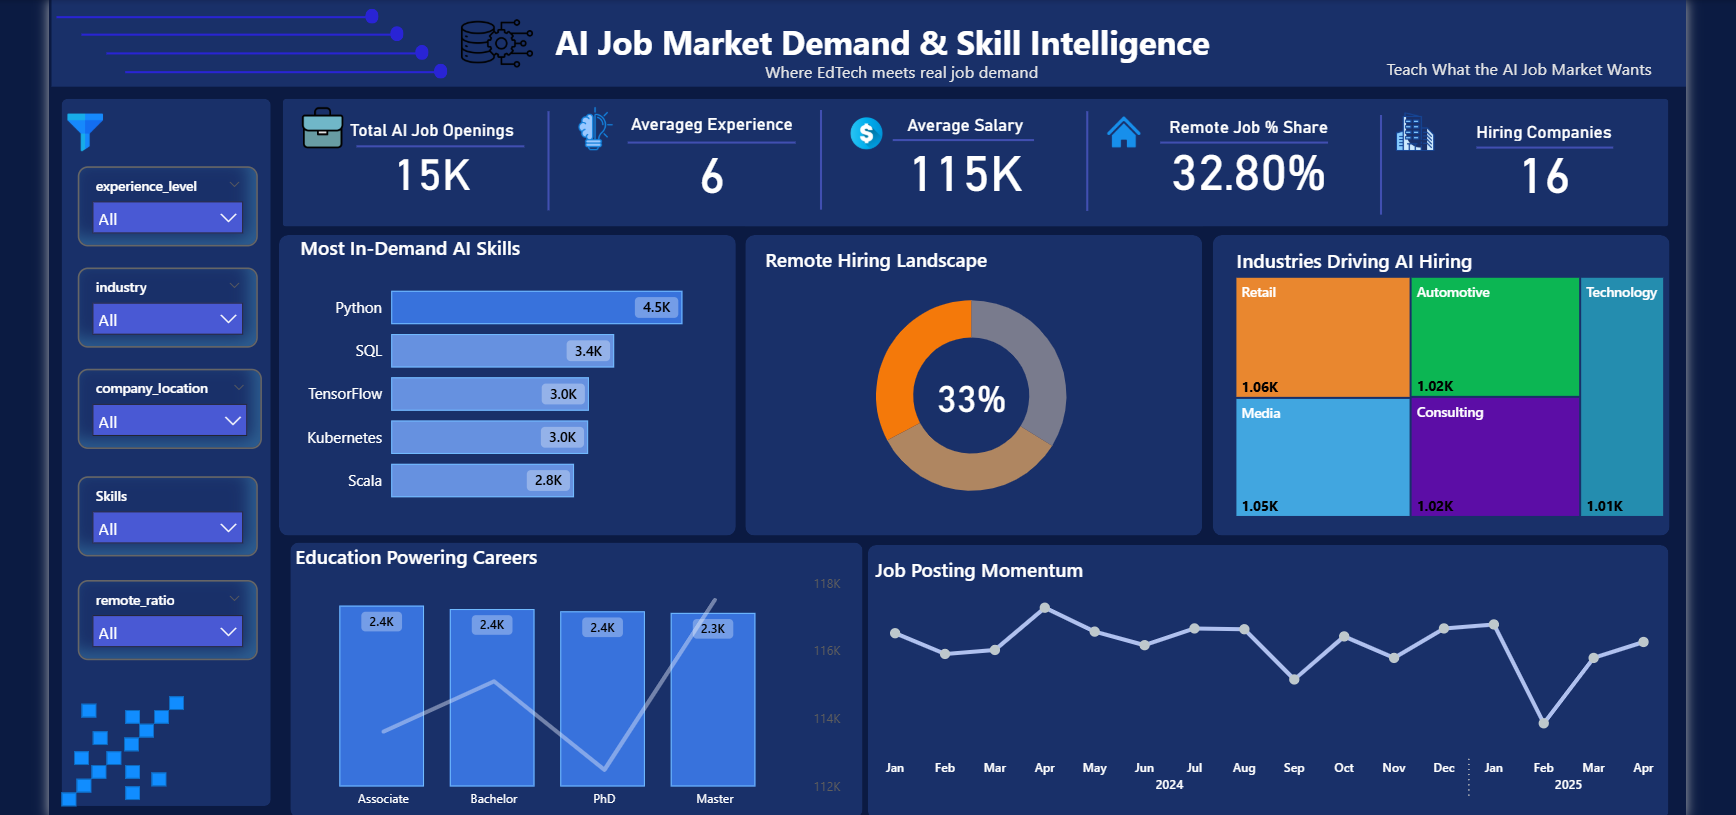

The page's visual inventory and layout, read from the dashboard file:
{"tool":"powerbi","page":{"name":"Analysis","canvas":[1600,800],"ordinal":0},"visuals":[{"type":"shape","box":[2.7,0,1597.9,84.7],"z":0},{"type":"shape","box":[7.3,7.3,302.3,18.9],"z":0,"group":"g7"},{"type":"shape","box":[32,24.7,302.3,18.9],"z":0,"group":"g5"},{"type":"shape","box":[56.7,42.2,302.3,18.9],"z":0,"group":"g6"},{"type":"shape","box":[74.1,61,302.3,18.9],"z":0,"group":"g4"},{"type":"image","box":[241,94.2,53.8,61],"z":0,"group":"g1"},{"type":"shape","box":[12.1,774.7,14.8,13.4],"z":0,"group":"g3"},{"type":"shape","box":[309.4,8.8,13.1,14.5],"z":1000,"group":"g7"},{"type":"shape","box":[334.1,26.2,13.1,14.5],"z":1000,"group":"g5"},{"type":"shape","box":[358.8,43.7,13.1,14.5],"z":1000,"group":"g6"},{"type":"shape","box":[376.2,62.5,13.1,14.5],"z":1000,"group":"g4"},{"type":"image","box":[508.3,96.5,52.5,58.6],"z":1000,"group":"g1"},{"type":"shape","box":[12.1,96.8,204.4,691.3],"z":1000},{"type":"shape","box":[26.9,761.3,14.8,13.4],"z":1000,"group":"g3"},{"type":"textbox","box":[489.6,14.8,667.1,55.1],"z":2000},{"type":"image","box":[778.5,109,42.2,43.6],"z":2000,"group":"g1"},{"type":"shape","box":[41.7,747.8,14.8,13.4],"z":2000,"group":"g3"},{"type":"image","box":[1021.8,98.9,58.7,59.9],"z":3000,"group":"g1"},{"type":"shape","box":[224.6,229.7,446.6,293.9],"z":3000},{"type":"shape","box":[56.5,734.4,14.8,13.4],"z":3000,"group":"g3"},{"type":"card","title":"Total AI Job Openings","fields":{"Values":["Base Measure.Total Job Postings"]},"box":[280.3,117.2,189,84.3],"z":4000,"group":"g1"},{"type":"shape","box":[235.5,530.5,559.6,268.9],"z":4000},{"type":"shape","box":[72.6,720.9,14.8,13.4],"z":4000,"group":"g3"},{"type":"card","title":"Average Salary","fields":{"Values":["Base Measure.Avg Salary"]},"box":[815.1,112.8,161.3,88.7],"z":5000,"group":"g1"},{"type":"shape","box":[800.3,532.6,782.8,267.7],"z":5000},{"type":"shape","box":[87.4,707.5,14.8,13.4],"z":5000,"group":"g3"},{"type":"textbox","box":[1274.5,51.1,325.5,33.6],"z":6000},{"type":"card","title":"Remote Job % Share","fields":{"Values":["Base Measure.Remote Job %"]},"box":[1086.1,114.3,173,84.3],"z":6000,"group":"g1"},{"type":"shape","box":[117,680.6,14.8,13.4],"z":6000,"group":"g3"},{"type":"card","title":"Hiring Companies","fields":{"Values":["Base Measure.Hiring Companies"]},"box":[1384.9,118,154.1,81.4],"z":7000,"group":"g1"},{"type":"shape","box":[680.1,229.7,446.6,293.9],"z":7000},{"type":"shape","box":[102.2,694,14.8,13.4],"z":7000,"group":"g3"},{"type":"textbox","box":[671.2,53.8,325.5,33.6],"z":8000},{"type":"shape","box":[460.8,109,55.2,97.1],"z":8000,"group":"g1"},{"type":"shape","box":[74,768,14.8,13.4],"z":8000,"group":"g3"},{"type":"card","title":"Averageg Experience ","fields":{"Values":["Base Measure.Avg Experience"]},"box":[561.3,111.4,174.4,95.9],"z":9000,"group":"g1"},{"type":"shape","box":[1137,229.7,446.6,293.9],"z":9000},{"type":"shape","box":[99.5,754.6,14.8,13.4],"z":9000,"group":"g3"},{"type":"shape","box":[228.6,96.8,1354.4,125.1],"z":10000},{"type":"shape","box":[726.8,107.6,55.2,97.4],"z":10000,"group":"g1"},{"type":"shape","box":[24.2,734.4,14.8,13.4],"z":10000,"group":"g3"},{"type":"image","box":[376.6,0,123.7,84.7],"z":11000},{"type":"shape","box":[988.1,108.4,55.2,97.4],"z":11000,"group":"g1"},{"type":"shape","box":[43,714.2,14.8,13.4],"z":11000,"group":"g3"},{"type":"shape","box":[300.9,123.5,164.2,39.2],"z":12000},{"type":"shape","box":[74,747.8,14.8,13.4],"z":12000,"group":"g3"},{"type":"image","box":[11.6,101.7,46.5,56.7],"z":13000},{"type":"shape","box":[1274.1,113.1,55.2,97.4],"z":13000,"group":"g1"},{"type":"donutChart","title":"Remote Hiring Landscape","fields":{"Category":["AI_Job.remote_ratio"],"Y":["Base Measure.Total Job Postings"]},"box":[694.8,241.3,412.8,267.4],"z":13003,"group":"g2"},{"type":"shape","box":[32.3,687.3,14.8,13.4],"z":14000},{"type":"shape","box":[74,694,14.8,13.4],"z":15000},{"type":"group","id":"g1","title":"Group 3","box":[241,94.2,1298,116.3],"z":16000},{"type":"clusteredBarChart","title":"Most In-Demand AI Skills","fields":{"Category":["AI_Job.Skills"],"Y":["Base Measure.Total Job Postings"]},"box":[240.1,229.8,408.2,279.6],"z":17000},{"type":"card","title":"Remote Job % Share","fields":{"Values":["Base Measure.Remote Job %"]},"box":[858.1,360.5,86.1,53.8],"z":17003,"group":"g2"},{"type":"treemap","title":"Industries Driving AI Hiring","fields":{"Group":["AI_Job.industry"],"Values":["Base Measure.Total Job Postings"]},"box":[1156.1,241.9,427.1,267.6],"z":18000},{"type":"lineChart","title":"Job Posting Momentum","fields":{"Category":["Calender.Year","Calender.Month"],"Y":["Base Measure.Total Job Postings"]},"box":[802.3,543.6,780.5,245.6],"z":19000},{"type":"lineClusteredColumnComboChart","title":"Education Powering Careers","fields":{"Y":["Base Measure.Total Job Postings"],"Y2":["Base Measure.Avg Salary"],"Category":["AI_Job.Education"]},"box":[235.5,532,543.6,267.4],"z":20000},{"type":"group","id":"g2","title":"Group 4","box":[694.8,241.3,412.8,267.4],"z":21000},{"type":"slicer","fields":{"Values":["AI_Job.experience_level"]},"box":[27.6,162.8,175.9,78.5],"z":22000},{"type":"slicer","fields":{"Values":["AI_Job.industry"]},"box":[27.6,261.6,175.9,78.5],"z":23000},{"type":"slicer","fields":{"Values":["AI_Job.company_location"]},"box":[27.6,360.5,180.2,78.5],"z":24000},{"type":"slicer","fields":{"Values":["AI_Job.Skills"]},"box":[27.6,465.1,175.9,78.5],"z":25000},{"type":"slicer","fields":{"Values":["AI_Job.remote_ratio"]},"box":[27.6,566.9,175.9,78.5],"z":26000},{"type":"group","id":"g3","title":"Group 2","box":[12.1,680.6,119.7,107.6],"z":27000},{"type":"group","id":"g4","title":"Group 1","box":[74.1,61,315.4,18.9],"z":28000},{"type":"group","id":"g5","title":"Group 1","box":[32,24.7,315.2,18.9],"z":29000},{"type":"group","id":"g6","title":"Group 1","box":[56.7,42.2,315.4,18.9],"z":30000},{"type":"group","id":"g7","title":"Group 1","box":[7.3,7.3,315.4,18.9],"z":31000},{"type":"shape","box":[1395.4,125,133.7,39.2],"z":32000},{"type":"shape","box":[565.4,119.2,164.2,39.2],"z":33000},{"type":"shape","box":[824.1,117.7,138.1,39.2],"z":34000},{"type":"shape","box":[1085.8,119.2,164.2,39.2],"z":35000},{"type":"image","box":[1311.4,104.9,48.4,47.1],"z":36000}]}

Visuals, with their boxes on the page's 1600x800 design canvas (x1, y1, x2, y2). These are canvas units, not pixel positions in the 1736x815 screenshot, which may show the page scaled, cropped or inside an application window:
shape: box(3, 0, 1601, 85)
shape: box(7, 7, 310, 26)
shape: box(32, 25, 334, 44)
shape: box(57, 42, 359, 61)
shape: box(74, 61, 376, 80)
image: box(241, 94, 295, 155)
shape: box(12, 775, 27, 788)
shape: box(309, 9, 322, 23)
shape: box(334, 26, 347, 41)
shape: box(359, 44, 372, 58)
shape: box(376, 62, 389, 77)
image: box(508, 96, 561, 155)
shape: box(12, 97, 216, 788)
shape: box(27, 761, 42, 775)
textbox: box(490, 15, 1157, 70)
image: box(778, 109, 821, 153)
shape: box(42, 748, 56, 761)
image: box(1022, 99, 1080, 159)
shape: box(225, 230, 671, 524)
shape: box(56, 734, 71, 748)
"Total AI Job Openings" card: box(280, 117, 469, 202)
shape: box(236, 530, 795, 799)
shape: box(73, 721, 87, 734)
"Average Salary" card: box(815, 113, 976, 202)
shape: box(800, 533, 1583, 800)
shape: box(87, 708, 102, 721)
textbox: box(1274, 51, 1600, 85)
"Remote Job % Share" card: box(1086, 114, 1259, 199)
shape: box(117, 681, 132, 694)
"Hiring Companies" card: box(1385, 118, 1539, 199)
shape: box(680, 230, 1127, 524)
shape: box(102, 694, 117, 707)
textbox: box(671, 54, 997, 87)
shape: box(461, 109, 516, 206)
shape: box(74, 768, 89, 781)
"Averageg Experience " card: box(561, 111, 736, 207)
shape: box(1137, 230, 1584, 524)
shape: box(100, 755, 114, 768)
shape: box(229, 97, 1583, 222)
shape: box(727, 108, 782, 205)
shape: box(24, 734, 39, 748)
image: box(377, 0, 500, 85)
shape: box(988, 108, 1043, 206)
shape: box(43, 714, 58, 728)
shape: box(301, 124, 465, 163)
shape: box(74, 748, 89, 761)
image: box(12, 102, 58, 158)
shape: box(1274, 113, 1329, 210)
"Remote Hiring Landscape" donutChart: box(695, 241, 1108, 509)
shape: box(32, 687, 47, 701)
shape: box(74, 694, 89, 707)
"Group 3" group: box(241, 94, 1539, 210)
"Most In-Demand AI Skills" clusteredBarChart: box(240, 230, 648, 509)
"Remote Job % Share" card: box(858, 360, 944, 414)
"Industries Driving AI Hiring" treemap: box(1156, 242, 1583, 510)
"Job Posting Momentum" lineChart: box(802, 544, 1583, 789)
"Education Powering Careers" lineClusteredColumnComboChart: box(236, 532, 779, 799)
"Group 4" group: box(695, 241, 1108, 509)
slicer - AI_Job.experience_level: box(28, 163, 204, 241)
slicer - AI_Job.industry: box(28, 262, 204, 340)
slicer - AI_Job.company_location: box(28, 360, 208, 439)
slicer - AI_Job.Skills: box(28, 465, 204, 544)
slicer - AI_Job.remote_ratio: box(28, 567, 204, 645)
"Group 2" group: box(12, 681, 132, 788)
"Group 1" group: box(74, 61, 390, 80)
"Group 1" group: box(32, 25, 347, 44)
"Group 1" group: box(57, 42, 372, 61)
"Group 1" group: box(7, 7, 323, 26)
shape: box(1395, 125, 1529, 164)
shape: box(565, 119, 730, 158)
shape: box(824, 118, 962, 157)
shape: box(1086, 119, 1250, 158)
image: box(1311, 105, 1360, 152)
